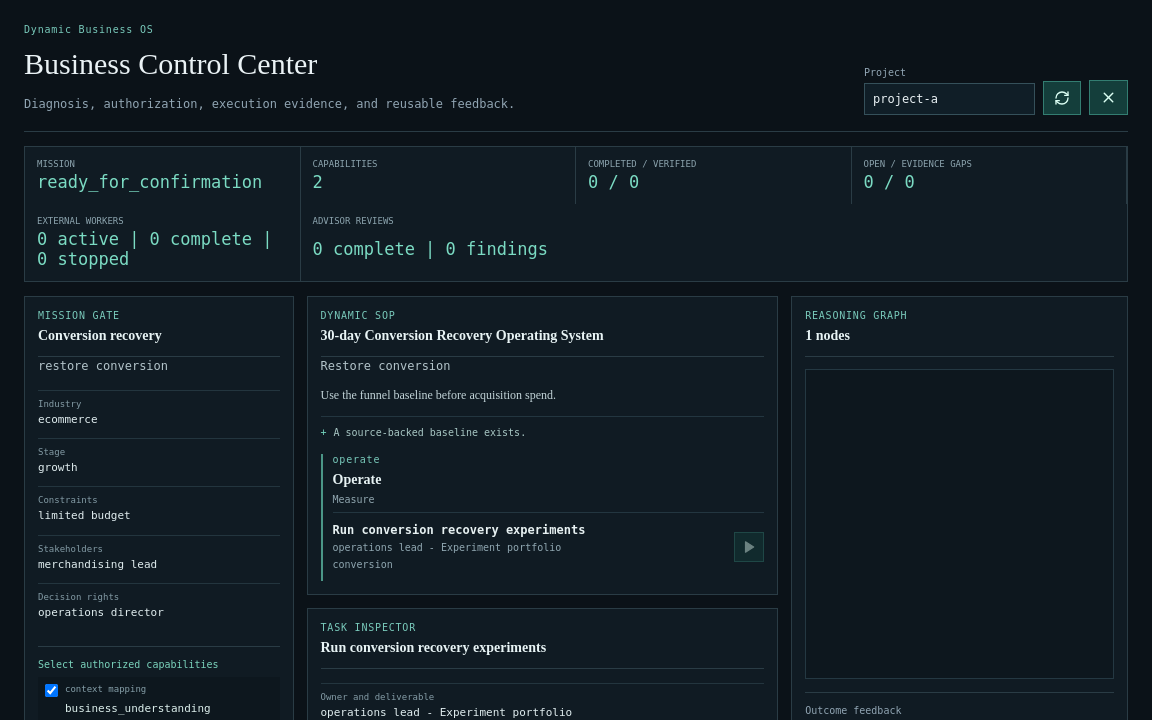
Test: BusinessControlCenter › exposes evidence, capability rationale, and task-level lineage for review
The image size is (1152, 720).
Click the button with aria-label "Inspect Run conversion recovery experiments" at (529, 547), box [332,521,726,573]
(page scrolled)
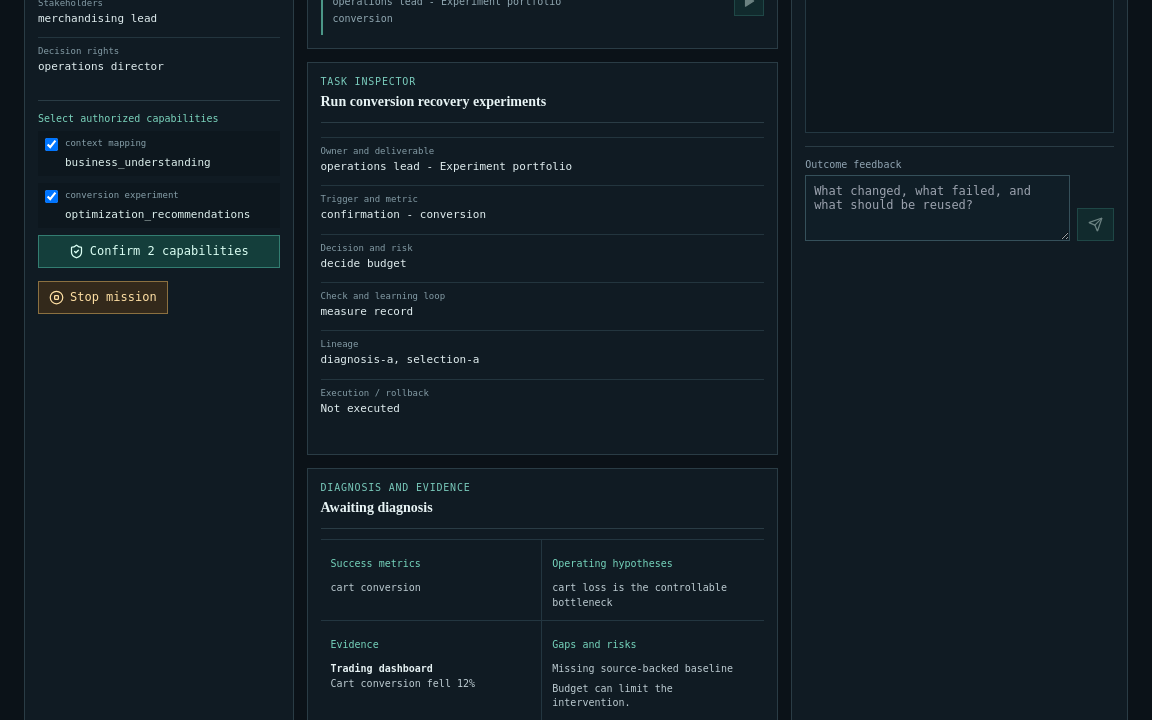
Expected: the text "TASK INSPECTOR" is shown, [320,76,416,87]
Result: the text "diagnosis-a, selection-a" is shown at [320,353,480,366]
